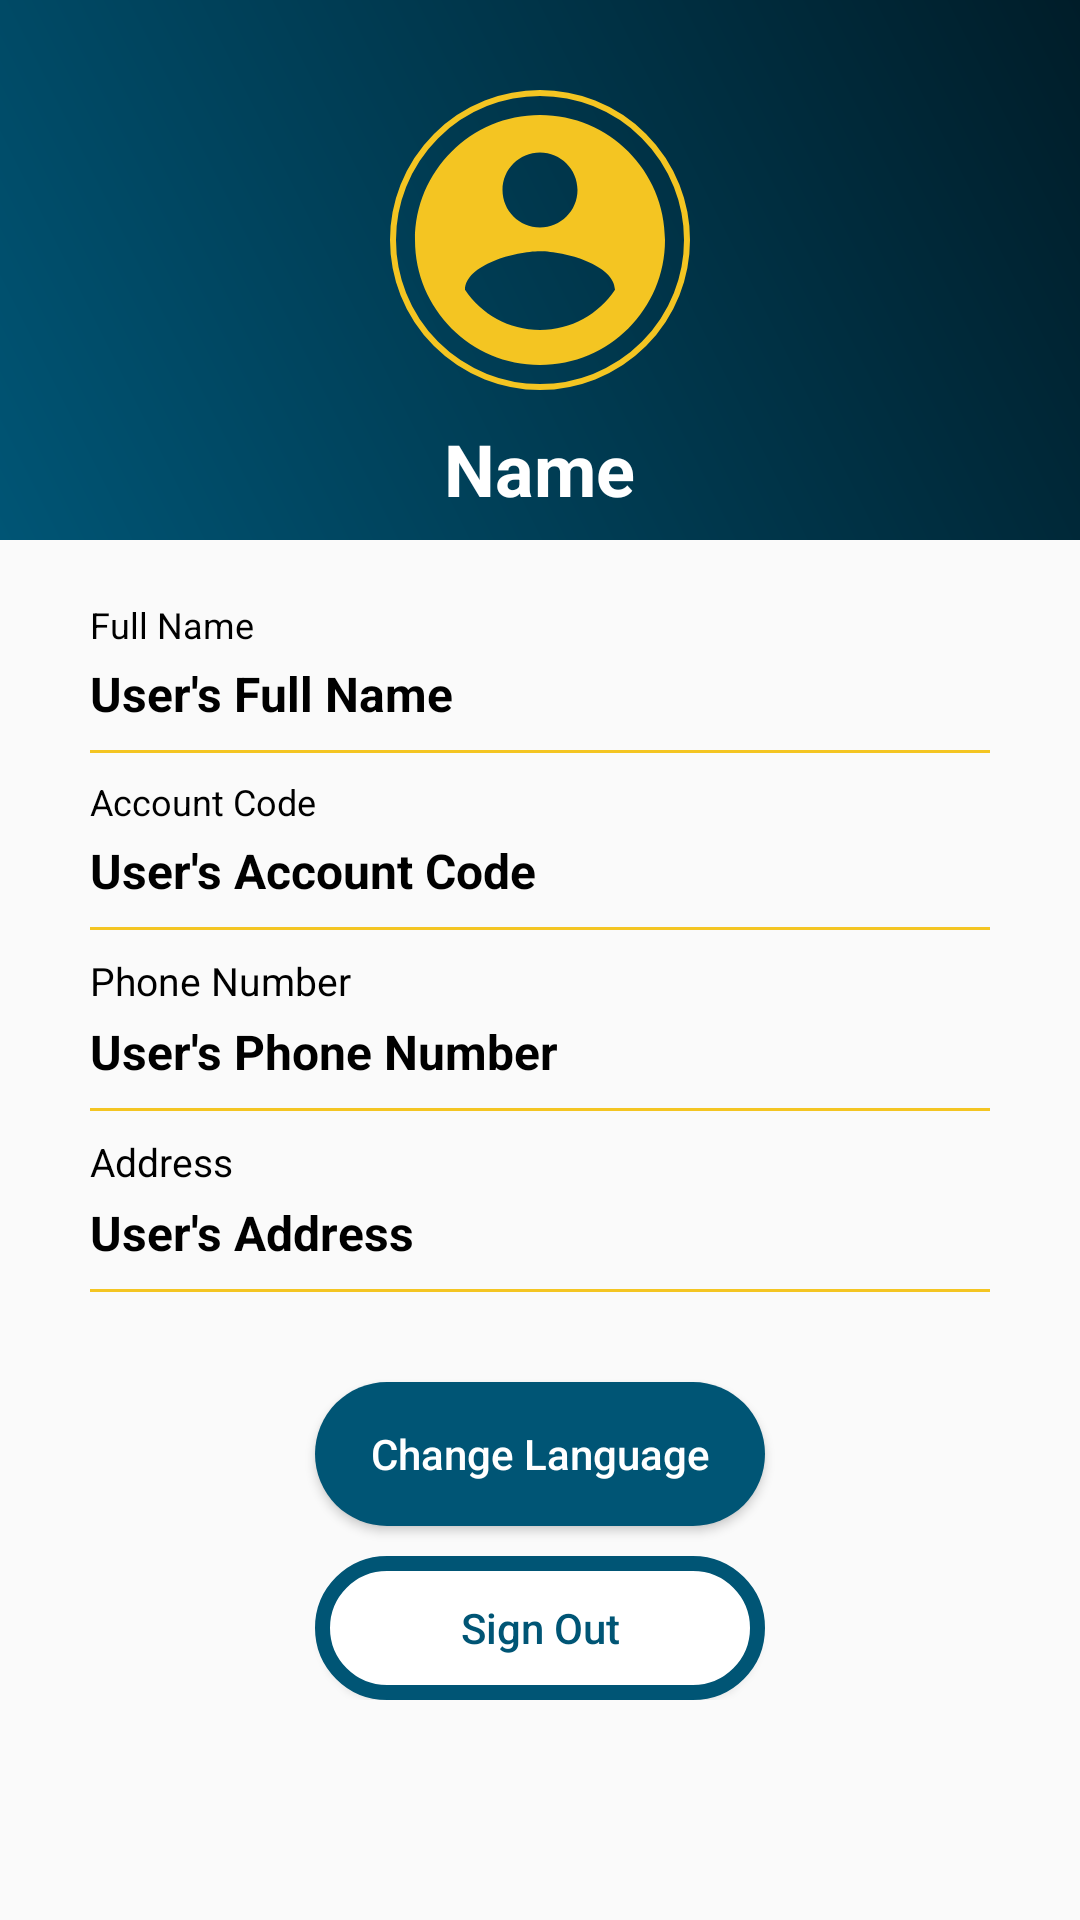

Icons on this 1080×1920 Android screen, each with its box as box=[x1, y1, x2, y2]:
account circle: box=[390, 90, 690, 390]
